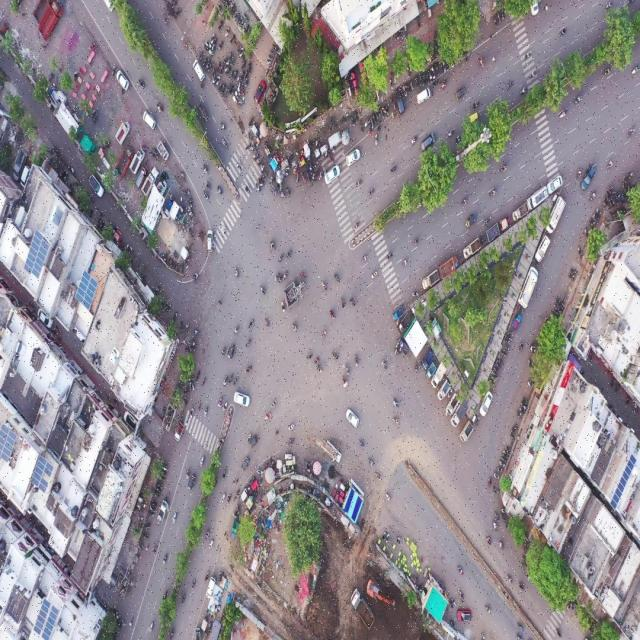3W: (465, 214, 477, 229), (468, 110, 480, 124), (250, 433, 259, 451), (455, 88, 467, 101), (240, 457, 249, 474), (188, 474, 195, 492), (227, 343, 235, 358)
Cars: (581, 161, 596, 193), (536, 235, 551, 264), (88, 174, 105, 199), (115, 69, 132, 93), (479, 389, 493, 418), (547, 172, 563, 195), (345, 407, 361, 429), (191, 58, 205, 82), (140, 108, 156, 129), (325, 165, 340, 187), (394, 86, 405, 115), (420, 132, 435, 152), (253, 80, 266, 103), (233, 390, 251, 406), (415, 89, 431, 106), (346, 148, 361, 166), (206, 575, 217, 599), (457, 608, 472, 623), (206, 228, 214, 254)
LCV: (518, 265, 539, 310), (545, 196, 566, 234), (526, 185, 548, 213), (141, 168, 158, 196), (439, 256, 459, 279), (324, 441, 343, 463), (422, 265, 438, 291), (115, 120, 131, 145), (463, 237, 480, 260), (445, 395, 461, 418), (130, 148, 144, 174), (460, 418, 474, 444), (453, 402, 467, 427), (512, 203, 528, 222), (326, 130, 342, 149), (421, 346, 434, 369), (433, 364, 446, 387), (157, 139, 170, 161), (437, 380, 450, 402), (397, 315, 410, 335), (158, 499, 168, 523), (512, 311, 522, 334), (426, 361, 438, 380), (398, 335, 409, 355), (174, 421, 185, 441), (391, 306, 403, 322), (492, 488, 500, 497)
M2W: (625, 125, 637, 140), (575, 163, 584, 182), (602, 64, 613, 78), (588, 188, 597, 204), (631, 63, 640, 79), (558, 108, 569, 121), (483, 603, 493, 617), (410, 132, 419, 147), (558, 26, 568, 39), (327, 307, 336, 321), (380, 359, 389, 373), (606, 157, 615, 171), (410, 238, 420, 250), (391, 398, 401, 410), (270, 396, 278, 411), (458, 589, 466, 604), (499, 163, 509, 175), (573, 94, 583, 106), (400, 256, 409, 269), (384, 490, 393, 503), (523, 49, 532, 62), (180, 592, 187, 608), (305, 351, 314, 363), (245, 364, 254, 376), (516, 621, 525, 633), (243, 184, 252, 196), (459, 196, 468, 208), (528, 68, 537, 80), (517, 340, 524, 355), (493, 508, 501, 521), (506, 573, 514, 586), (286, 423, 296, 433), (319, 279, 328, 290), (333, 273, 342, 284), (390, 164, 399, 175), (446, 127, 455, 138), (489, 187, 498, 198), (605, 0, 614, 11), (202, 405, 209, 419), (162, 552, 169, 566), (216, 183, 223, 197), (222, 467, 228, 483), (352, 220, 360, 232), (507, 79, 515, 91), (482, 216, 490, 228), (478, 233, 486, 245), (72, 69, 78, 85), (341, 375, 348, 388), (248, 317, 255, 330), (279, 301, 286, 314), (497, 538, 504, 551), (220, 225, 227, 238), (156, 101, 163, 114), (271, 187, 278, 200), (386, 251, 395, 261), (218, 395, 224, 410), (222, 374, 228, 389), (148, 621, 154, 636), (221, 344, 227, 359), (234, 265, 240, 280), (110, 63, 116, 78), (349, 297, 356, 309), (339, 295, 345, 309), (199, 455, 205, 469), (204, 527, 210, 541), (190, 578, 196, 592), (292, 320, 298, 334), (374, 470, 381, 482), (457, 564, 464, 576), (485, 536, 492, 548), (492, 520, 499, 532), (518, 579, 525, 591), (204, 179, 211, 191), (221, 137, 228, 149), (368, 186, 375, 198), (359, 122, 365, 136), (232, 490, 239, 502), (360, 255, 369, 264), (391, 415, 400, 424), (471, 100, 480, 109), (518, 86, 527, 95), (370, 270, 378, 280), (258, 286, 266, 296), (222, 400, 228, 413), (228, 373, 234, 386), (172, 512, 178, 525), (227, 491, 233, 504), (204, 570, 210, 583), (169, 627, 175, 640), (264, 317, 270, 330), (224, 27, 230, 40), (265, 411, 272, 422), (202, 163, 209, 174), (316, 364, 322, 376), (344, 363, 350, 375), (208, 538, 214, 550), (161, 590, 167, 602), (269, 241, 277, 250), (555, 627, 561, 639), (256, 183, 262, 195), (318, 169, 324, 181), (308, 163, 314, 175), (230, 32, 236, 44), (320, 331, 327, 341), (354, 353, 359, 367), (286, 249, 293, 259), (493, 471, 500, 481), (236, 162, 243, 172), (356, 178, 363, 188), (195, 370, 200, 384), (233, 374, 239, 385), (203, 190, 209, 201), (138, 78, 144, 89), (198, 50, 204, 61), (224, 61, 230, 72), (185, 468, 190, 481), (402, 85, 407, 98), (442, 78, 447, 91), (301, 173, 306, 186), (202, 57, 207, 70), (314, 356, 321, 365), (367, 457, 374, 466), (412, 290, 419, 299), (433, 79, 440, 88), (220, 492, 226, 502), (247, 338, 253, 348), (234, 325, 240, 335), (278, 252, 284, 262), (273, 271, 279, 281), (493, 16, 498, 28), (496, 12, 501, 24), (364, 118, 370, 128), (263, 172, 269, 182), (90, 109, 95, 121), (218, 41, 224, 51), (238, 48, 244, 58), (215, 76, 221, 86), (332, 352, 339, 360), (415, 76, 419, 90), (141, 532, 149, 539), (218, 19, 223, 30), (208, 62, 213, 73), (218, 81, 223, 92), (222, 56, 227, 67), (359, 438, 365, 447), (220, 122, 226, 131), (149, 151, 155, 160), (239, 71, 245, 80), (191, 406, 195, 419), (501, 8, 505, 21), (419, 75, 423, 88), (389, 78, 393, 91), (377, 118, 381, 131), (351, 114, 355, 127), (370, 117, 374, 130), (212, 66, 216, 79), (283, 271, 288, 281), (269, 176, 274, 186), (210, 33, 215, 43), (206, 58, 211, 68), (241, 60, 246, 70), (300, 271, 307, 278), (205, 40, 212, 47), (144, 524, 151, 531), (154, 491, 161, 498), (426, 72, 430, 84), (410, 79, 414, 91), (372, 112, 376, 124), (307, 172, 311, 184), (214, 36, 218, 48), (248, 62, 252, 74), (189, 196, 193, 208), (233, 70, 238, 79), (154, 149, 158, 160), (216, 62, 220, 73), (142, 145, 148, 152), (151, 500, 157, 507), (94, 114, 98, 124), (237, 77, 241, 87), (245, 77, 249, 87), (232, 56, 236, 66), (229, 52, 233, 62), (222, 83, 226, 93), (443, 60, 446, 73), (423, 72, 426, 85), (355, 112, 358, 124), (377, 104, 380, 116), (149, 506, 155, 512), (257, 469, 263, 475), (407, 83, 410, 94), (386, 105, 389, 116), (436, 66, 439, 76), (390, 95, 393, 105), (381, 109, 384, 119), (204, 45, 208, 51)
Truck: (351, 589, 377, 630), (38, 1, 62, 38), (115, 145, 134, 177)
